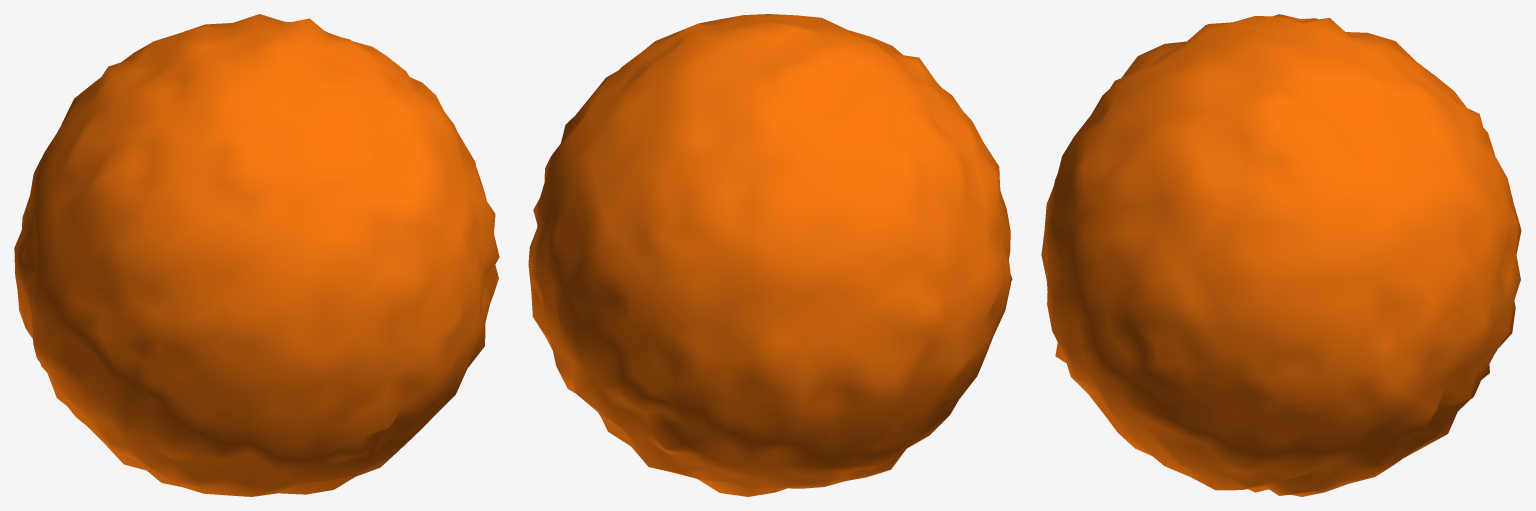
File: mars-01.fbx
3 renders of one model, left to right at view 1: azimuth 30°, elevation 25°; view 2: azimuth 150°, elevation 25°; view 3: azimuth 270°, elevation 25°, orthographic.
Parts seen in each view (by area): view 1: Sphere; view 2: Sphere; view 3: Sphere.
Boxes of the visible parts, <box> form: Sphere: <box>14,14,499,496</box>; Sphere: <box>528,14,1012,496</box>; Sphere: <box>1041,14,1521,496</box>.
Bounding box in the file's own units: 457 × 451 × 453.
